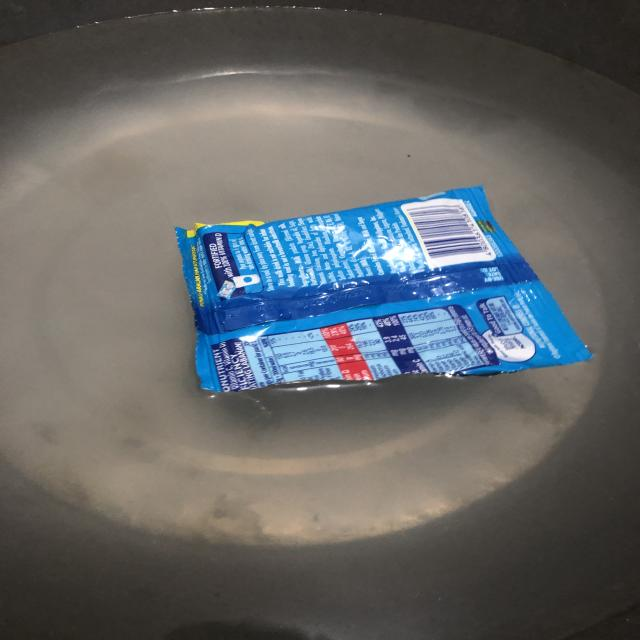Plastic Wrapper: (154, 172, 614, 414)
